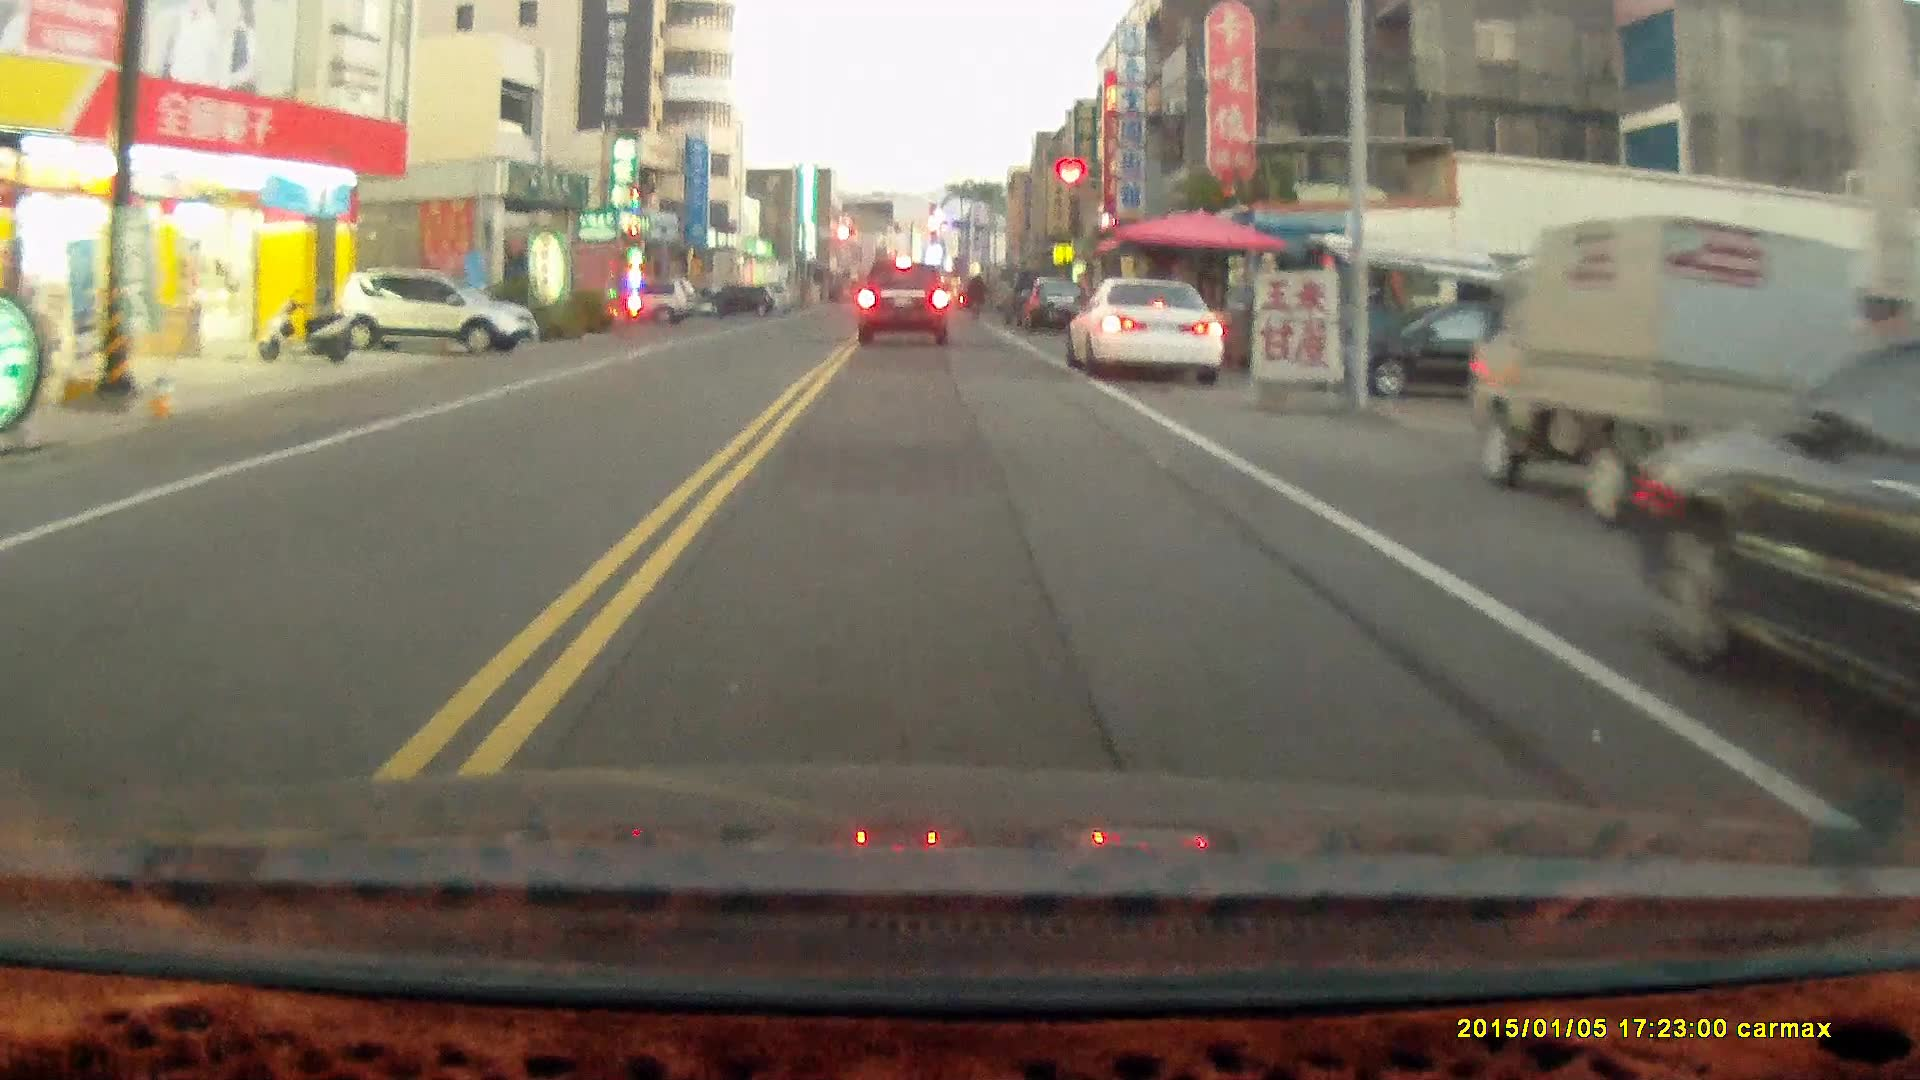vehicle: (1466, 214, 1876, 533), (1625, 328, 1920, 761), (1323, 294, 1607, 404), (326, 272, 533, 357), (1071, 282, 1226, 390), (855, 265, 953, 349)
